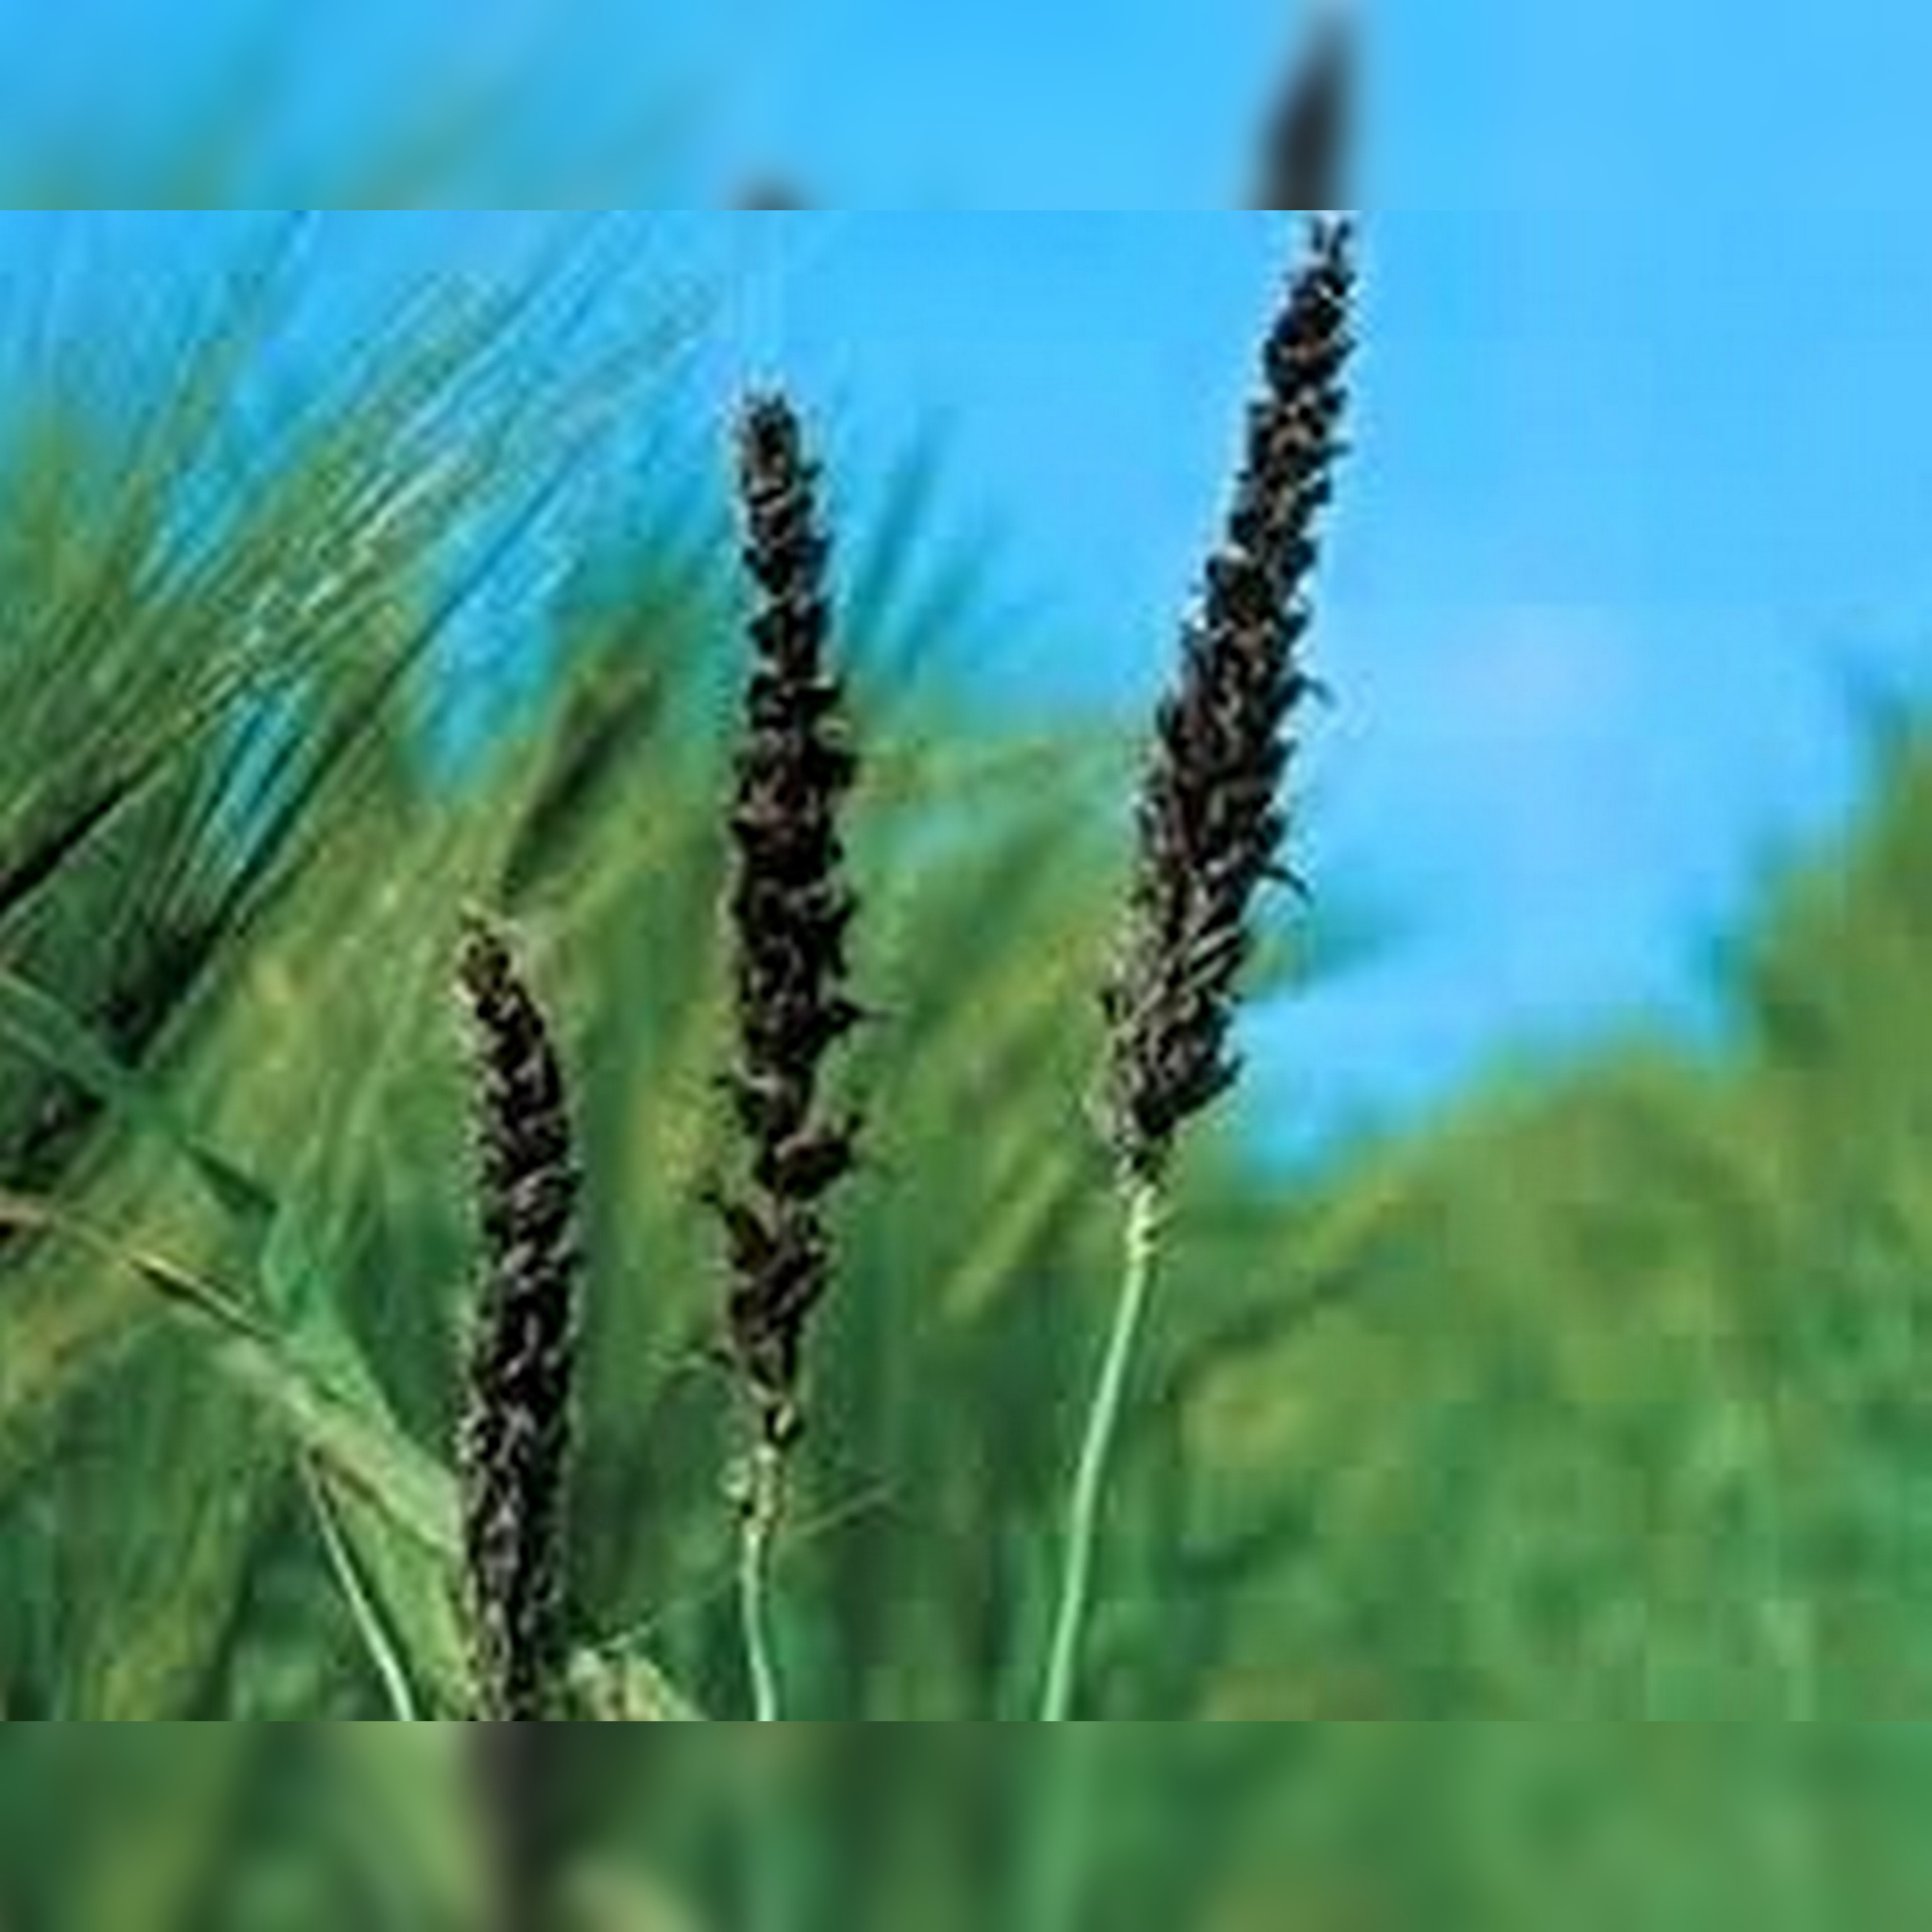Wheat Loose Smut: (1016, 209, 1467, 1338), (674, 336, 901, 1440), (402, 807, 628, 1635)
